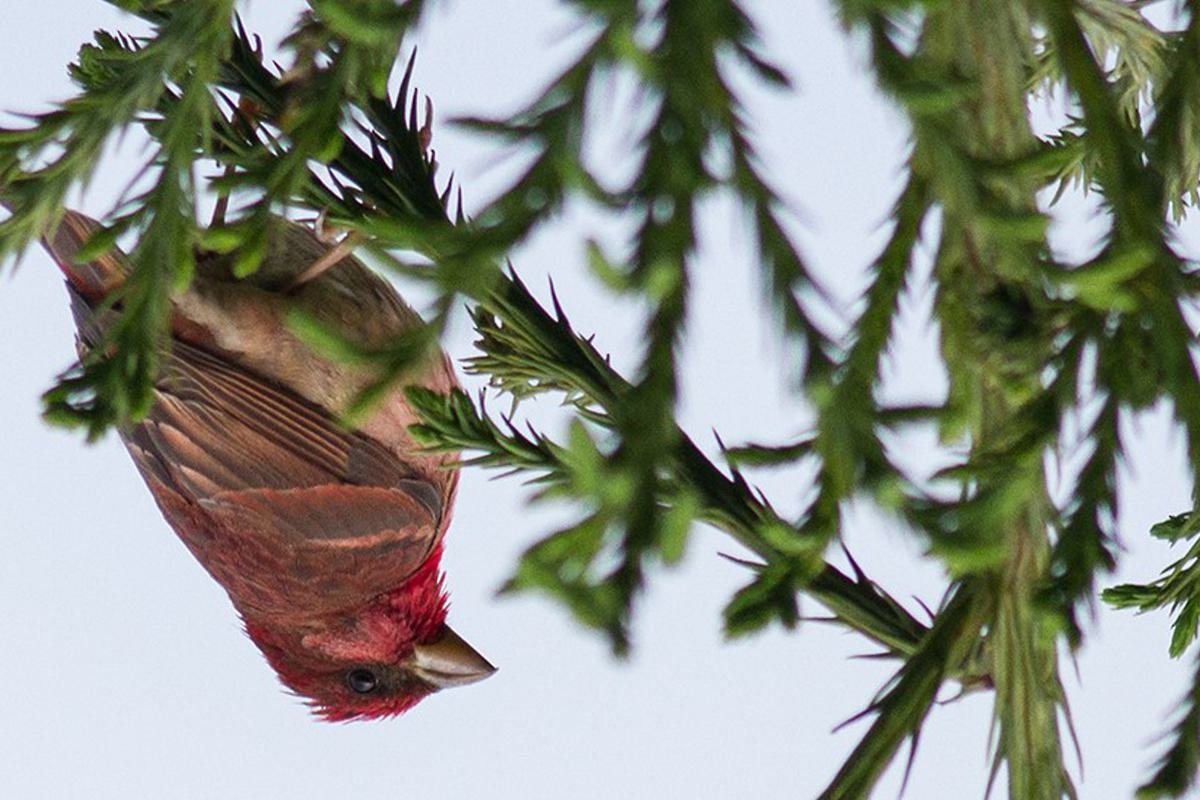rosefinch: (69, 74, 524, 753)
